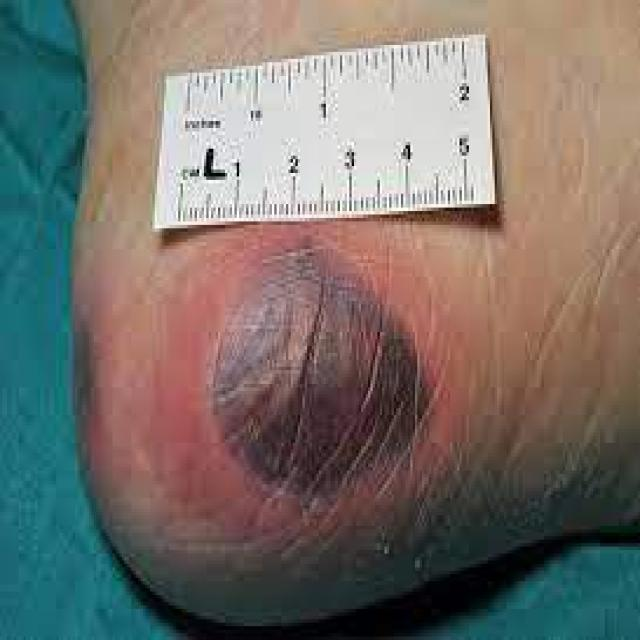DTI: (210, 250, 430, 498)
